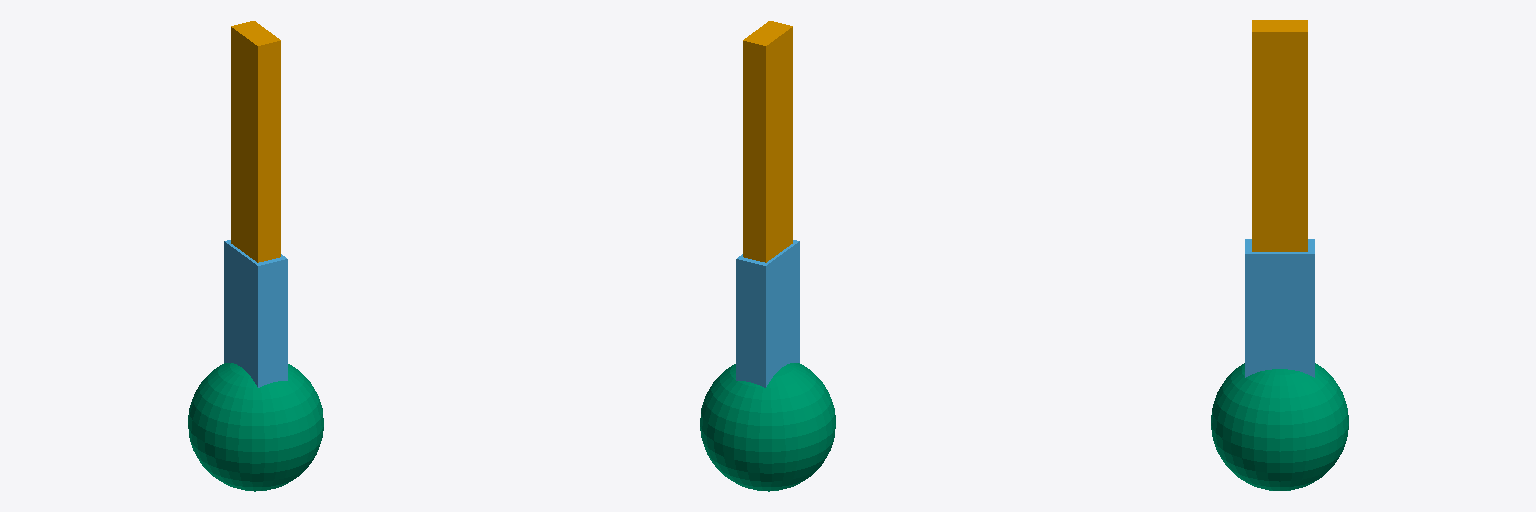
URDF robot description (urdf_robot):
<?xml version="1.0" ?>
<robot name="urdf_robot">
  <link name="baseLink">
    <inertial>
      <origin rpy="0 0 0" xyz="0 0 0.35"/>
      <mass value="0.0"/>
      <inertia ixx="0" ixy="0" ixz="0" iyy="0" iyz="0" izz="0"/>
    </inertial>
    <visual>
      <origin rpy="0 0 0" xyz="0 0 0.35"/>
      <geometry>
        <box size="0.08 0.16 0.7"/>
      </geometry>
    </visual>
    <collision>
      <origin rpy="0 0 0" xyz="0 0 0.35"/>
      <geometry>
        <box size="0.08 0.16 0.7"/>
      </geometry>
    </collision>
  </link>
  <link name="childA">
    <inertial>
      <origin rpy="0 0 0" xyz="0 0 -0.36"/>
      <mass value="1.0"/>
      <inertia ixx="0.048966669" ixy="0" ixz="0" iyy="0.046466667" iyz="0" izz="0.0041666669"/>
    </inertial>
    <visual>
      <origin rpy="0 0 0" xyz="0 0 -0.36"/>
      <geometry>
        <box size="0.1  0.2 0.72"/>
      </geometry>
    </visual>
    <collision>
      <origin rpy="0 0 0" xyz="0 0 -0.36"/>
      <geometry>
        <box size="0.1 0.2 0.72 "/>
      </geometry>
    </collision>
  </link>
  <joint name="joint_baseLink_childA" type="continuous">
    <parent link="baseLink"/>
    <child link="childA"/>
    <origin xyz="0 0 0"/>
    <axis xyz="1 0 0"/>
  </joint>

  <link name="childB">
    <inertial>
      <origin rpy="0 0 0" xyz="0 0 -0.36"/>
      <mass value="1.0"/>
      <inertia ixx="0.048966669" ixy="0" ixz="0" iyy="0.046466667" iyz="0" izz="0.0041666669"/>
    </inertial>
    <visual>
      <origin rpy="0 0 0" xyz="0 0 -0.36"/>
      <geometry>
        <sphere radius="0.2"/>
      </geometry>
    </visual>
    <collision>
      <origin rpy="0 0 0" xyz="0 0 -0.36"/>
      <geometry>
        <sphere radius="0.2"/>
      </geometry>
    </collision>
  </link>
  <joint name="joint_childA_childB" type="fixed">
    <parent link="childA"/>
    <child link="childB"/>
    <origin xyz="0 0 -0.2"/>
  </joint>
</robot>

--- Facts derived from the render (not from the file) ---
3 views of the same robot in one strip: view 1: azimuth 30°, elevation 25°; view 2: azimuth 150°, elevation 25°; view 3: azimuth 270°, elevation 25° (orthographic).
Model urdf_robot with 3 links and 2 joints (1 continuous, 1 fixed), rooted at baseLink, posed all joints at 0.
Links seen in each view (by area): view 1: childB, baseLink, childA; view 2: childB, baseLink, childA; view 3: childB, baseLink, childA.
Boxes of the visible links, x1=… form: childB: x1=188, y1=363, x2=323, y2=491; baseLink: x1=231, y1=21, x2=280, y2=262; childA: x1=224, y1=240, x2=287, y2=387; childB: x1=700, y1=363, x2=835, y2=491; baseLink: x1=743, y1=21, x2=792, y2=262; childA: x1=736, y1=240, x2=799, y2=387; childB: x1=1211, y1=363, x2=1348, y2=490; baseLink: x1=1252, y1=20, x2=1307, y2=251; childA: x1=1245, y1=239, x2=1314, y2=377.
Size in the robot's own frame: 0.4 by 0.4 by 1.46 metres.
Geometry: primitives only (box / cylinder / sphere), no mesh files.